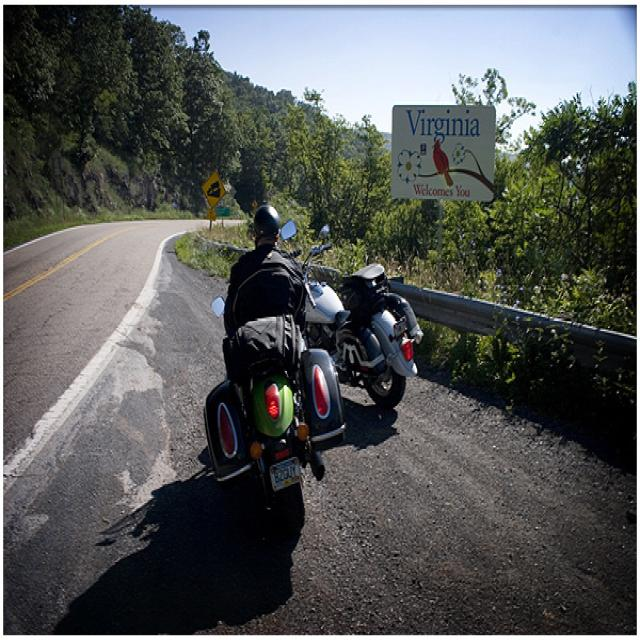motor: (209, 299, 348, 538), (297, 226, 419, 415)
